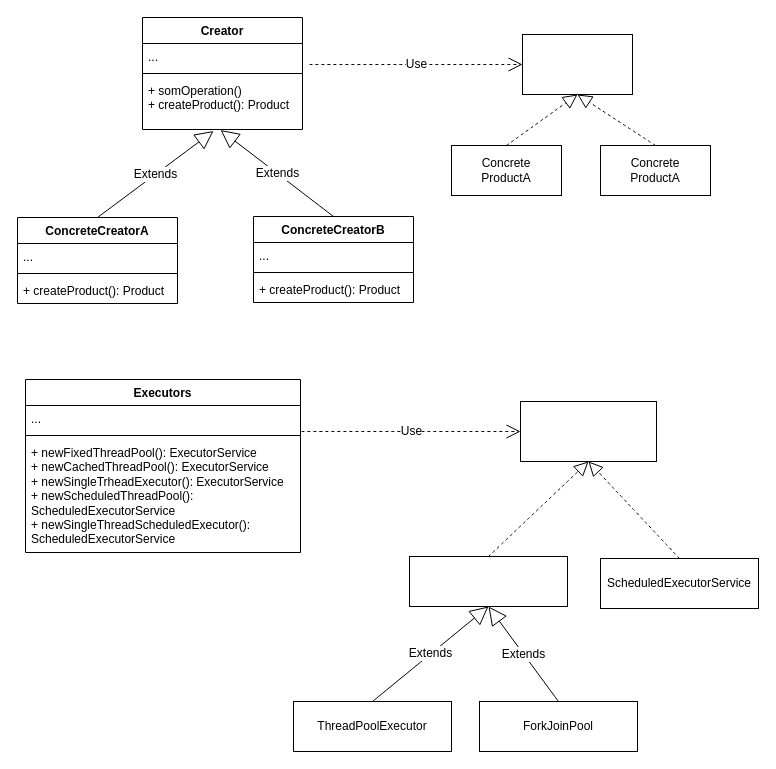
Some shapes in this 776 by 769 pixel diagram are drawn without their labels. The centre of each missing label's shape, as x and y in pixels:
AbstractExecutorService: pixel 488 581
«interface» ExecutorService: pixel 588 431
«interface» Product: pixel 577 64
